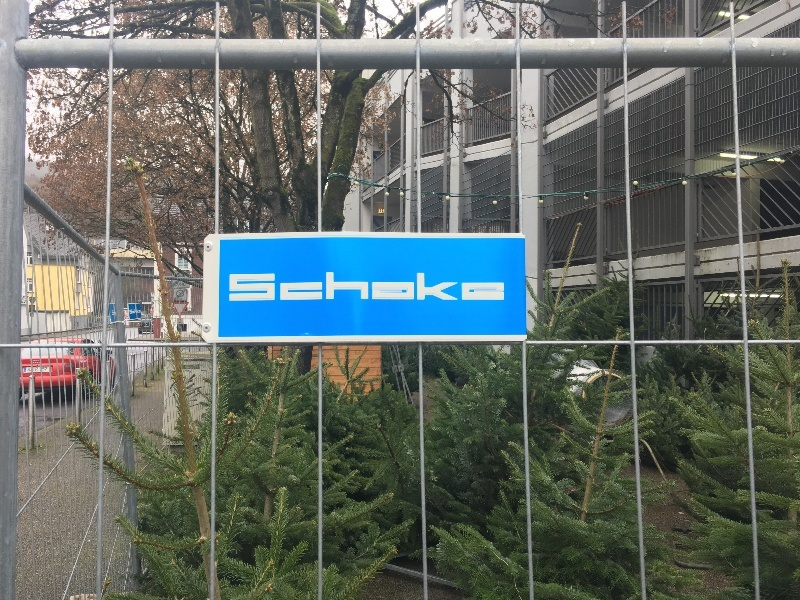text: (241, 271, 256, 304), (257, 271, 272, 304), (273, 271, 288, 304), (289, 271, 304, 304), (305, 271, 320, 304), (321, 271, 336, 304), (337, 271, 352, 304), (353, 271, 368, 304), (369, 271, 384, 304), (385, 271, 400, 304), (401, 271, 416, 304), (417, 271, 432, 304), (433, 271, 448, 304), (449, 271, 464, 304), (465, 271, 480, 304), (481, 271, 496, 304), (228, 271, 240, 304), (497, 271, 506, 304), (129, 308, 144, 315), (36, 368, 48, 372), (177, 298, 192, 301), (177, 282, 185, 286), (40, 367, 48, 371), (28, 368, 32, 372), (175, 282, 176, 286)
